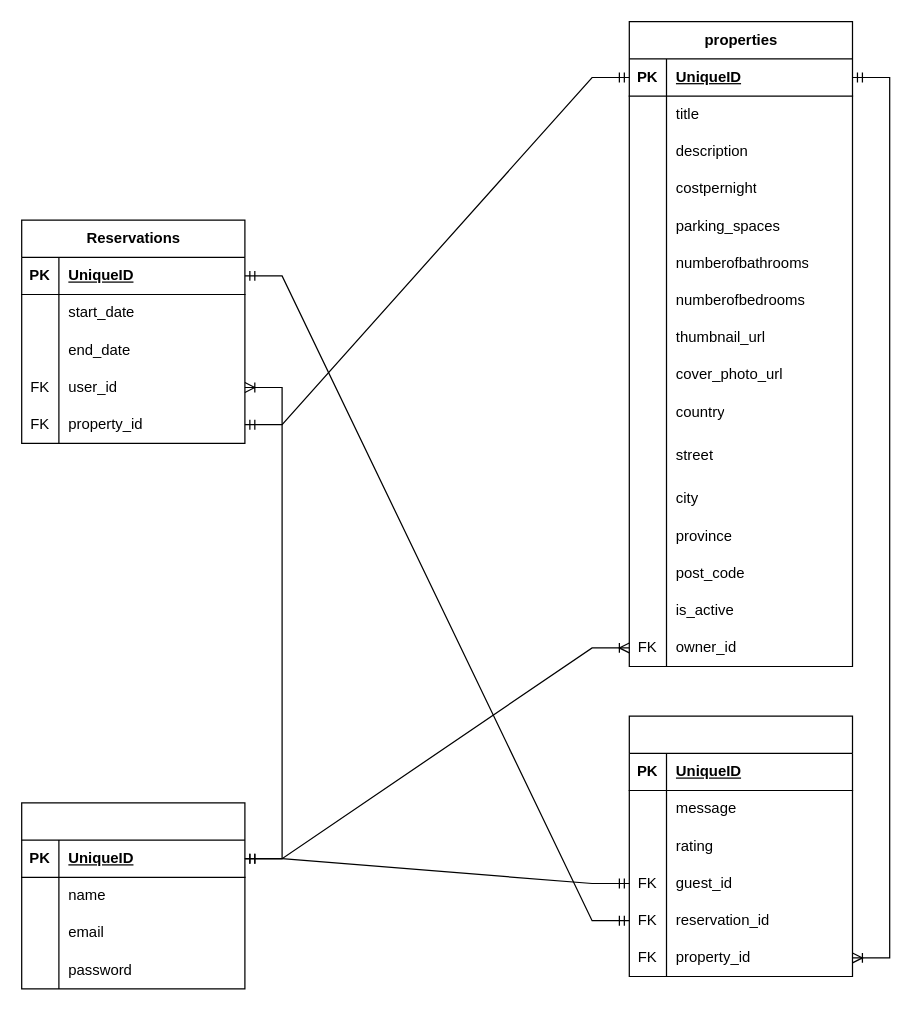
This 923x1011 diagram has some shape labels left out. Here are the shapes that lost their labels. From the top down, the box of each, then its label:
(628, 715, 852, 976): property_reviews
(20, 802, 245, 989): users
